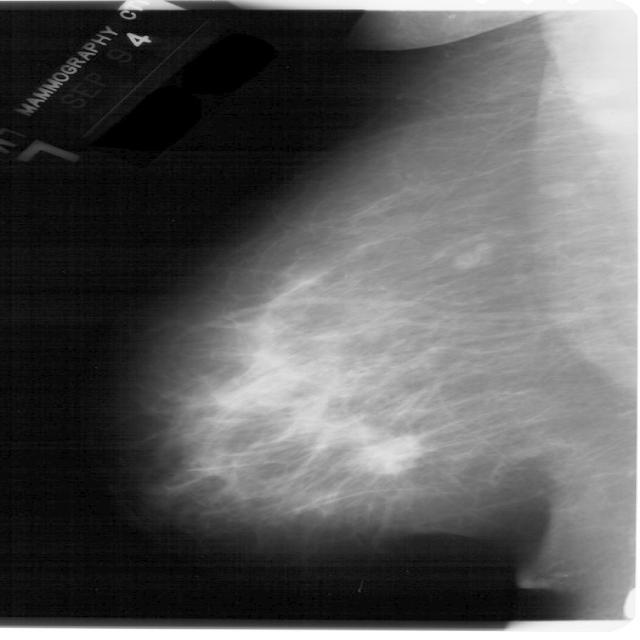tumour: (352, 434, 423, 475)
